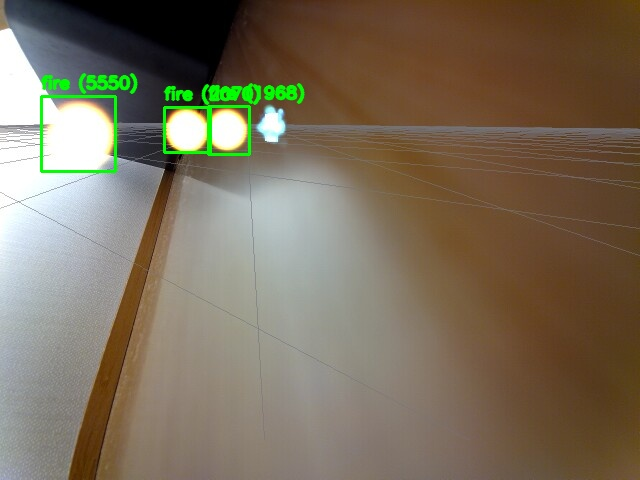fire: (41, 96, 115, 171), (164, 107, 210, 152), (208, 106, 249, 154)
